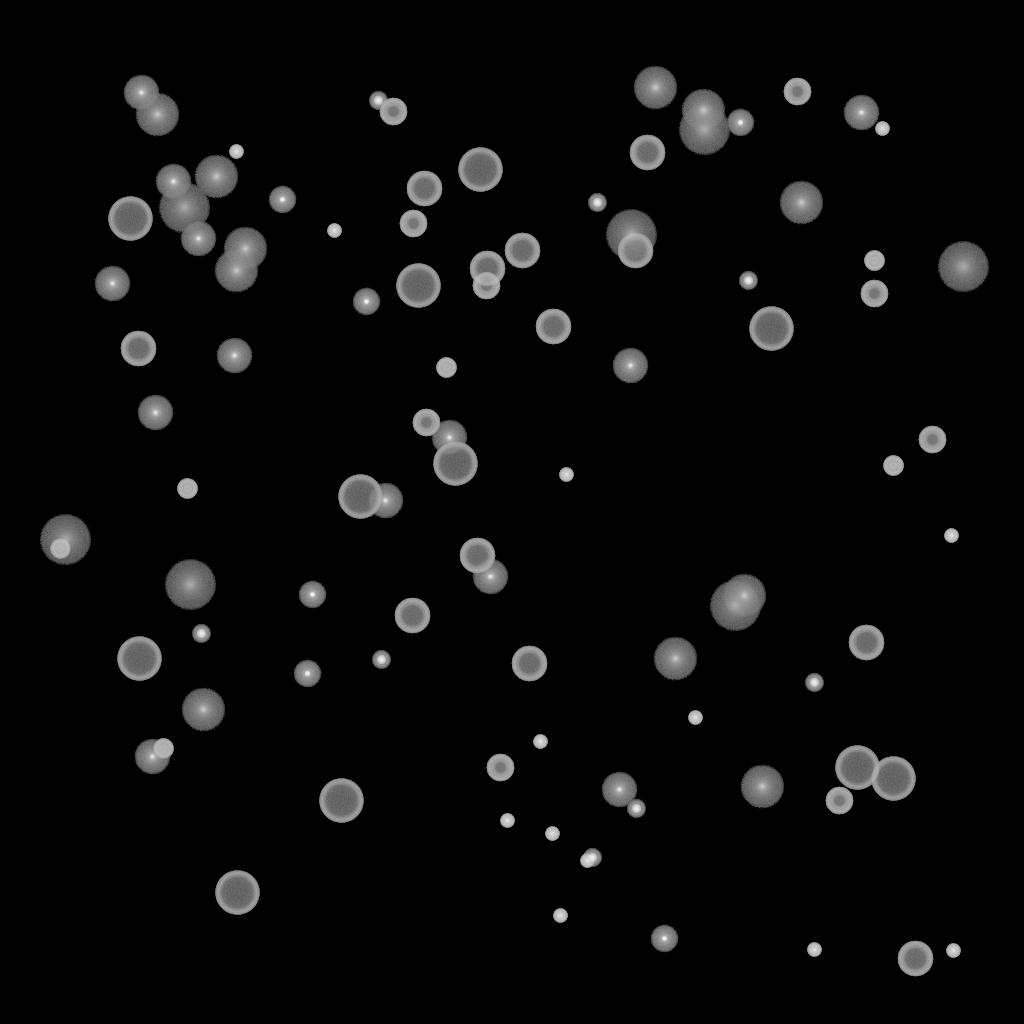depth:-10: (298, 581, 326, 609), (268, 186, 296, 214), (293, 660, 321, 688), (352, 288, 380, 316), (726, 109, 754, 137), (650, 925, 678, 953)
depth:-20: (583, 849, 601, 867), (588, 194, 606, 212), (192, 625, 210, 643), (627, 800, 645, 818), (369, 92, 387, 110), (739, 272, 757, 290), (805, 674, 823, 692), (372, 651, 390, 669)
depth:-30: (545, 827, 559, 841), (807, 943, 821, 957), (875, 122, 889, 136), (500, 814, 514, 828), (944, 529, 958, 543), (559, 468, 573, 482), (580, 854, 594, 868), (688, 711, 702, 725), (946, 944, 960, 958), (327, 224, 341, 238), (229, 145, 243, 159), (533, 735, 547, 749), (553, 909, 567, 923)
depth:-40: (153, 739, 173, 759), (50, 539, 70, 559), (177, 479, 197, 499), (864, 251, 884, 271), (436, 358, 456, 378), (883, 456, 903, 476)
depth:-50: (486, 754, 514, 782), (472, 272, 500, 300), (412, 409, 440, 437), (379, 98, 407, 126), (825, 787, 853, 815), (918, 426, 946, 454), (783, 78, 811, 106), (860, 280, 888, 308), (399, 210, 427, 238)
depth:-60: (848, 625, 884, 661), (504, 233, 540, 269), (629, 135, 665, 171), (394, 598, 430, 634), (897, 941, 933, 977), (459, 538, 495, 574), (617, 233, 653, 269), (469, 251, 505, 287), (511, 646, 547, 682), (120, 331, 156, 367), (406, 171, 442, 207), (535, 309, 571, 345)
depth:-70: (108, 197, 152, 241), (319, 779, 363, 823), (871, 757, 915, 801), (215, 871, 259, 915), (835, 746, 879, 790), (433, 442, 477, 486), (458, 148, 502, 192), (117, 637, 161, 681), (396, 264, 440, 308), (749, 307, 793, 351), (338, 475, 382, 519)
depth:0: (601, 772, 637, 808), (612, 348, 648, 384), (180, 221, 216, 257), (367, 483, 403, 519), (137, 395, 173, 431), (134, 739, 170, 775), (123, 75, 159, 111), (155, 164, 191, 200), (94, 266, 130, 302), (431, 420, 467, 456), (216, 338, 252, 374), (843, 95, 879, 131), (472, 559, 508, 595)
depth:10: (214, 249, 258, 293), (722, 574, 766, 618), (223, 227, 267, 271), (135, 93, 179, 137), (653, 637, 697, 681), (194, 155, 238, 199), (633, 66, 677, 110), (181, 688, 225, 732), (779, 181, 823, 225), (681, 89, 725, 133), (740, 765, 784, 809)
depth:20: (164, 560, 216, 610), (39, 515, 91, 565), (709, 581, 761, 631), (158, 183, 210, 233), (678, 105, 730, 155), (937, 242, 989, 292), (605, 210, 657, 260)
